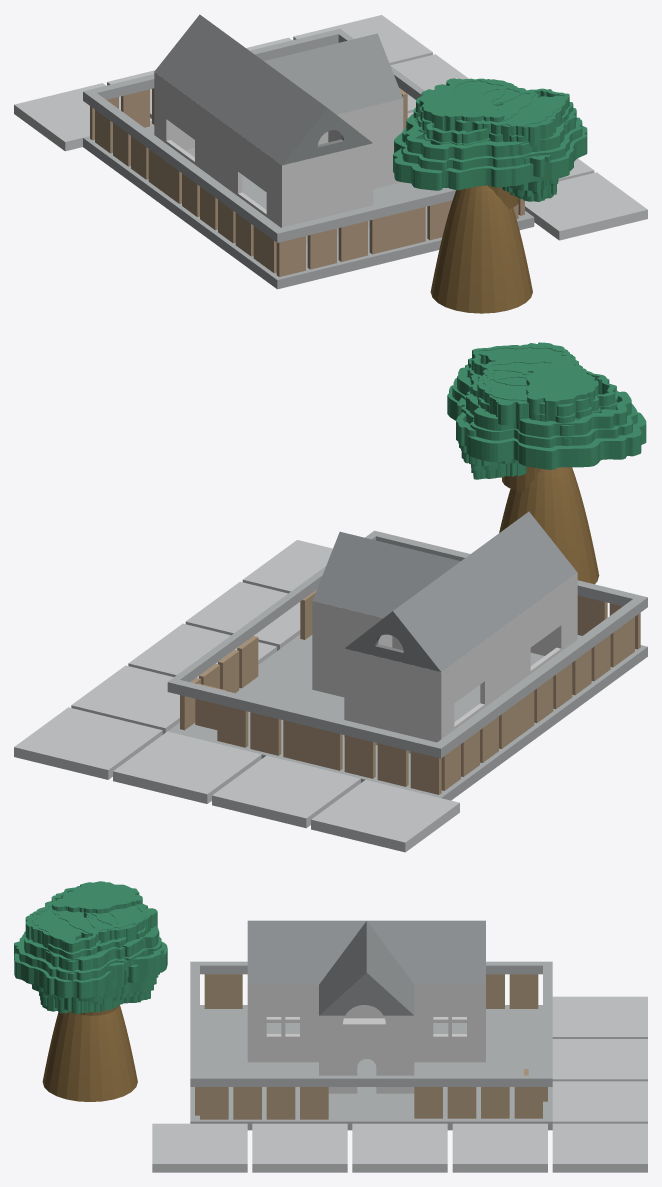
The model's file is Alexhouse.glb.
The picture shows the model from 3 angles, top to bottom: view 1: azimuth 30°, elevation 25°; view 2: azimuth 150°, elevation 25°; view 3: azimuth 270°, elevation 25°; orthographic projection. The views are drawn at different scales.
Parts seen in each view (by area): view 1: Mesh_Mesh_head_geo.001_lambert2SG.001; view 2: Mesh_Mesh_head_geo.001_lambert2SG.001; view 3: Mesh_Mesh_head_geo.001_lambert2SG.001.
Part boxes in pixels (box(x1,y1,x2,y2)): Mesh_Mesh_head_geo.001_lambert2SG.001: box(14, 14, 647, 313); Mesh_Mesh_head_geo.001_lambert2SG.001: box(14, 342, 647, 852); Mesh_Mesh_head_geo.001_lambert2SG.001: box(14, 881, 647, 1172).
Size of the model in its own units: 83 by 41 by 133.
